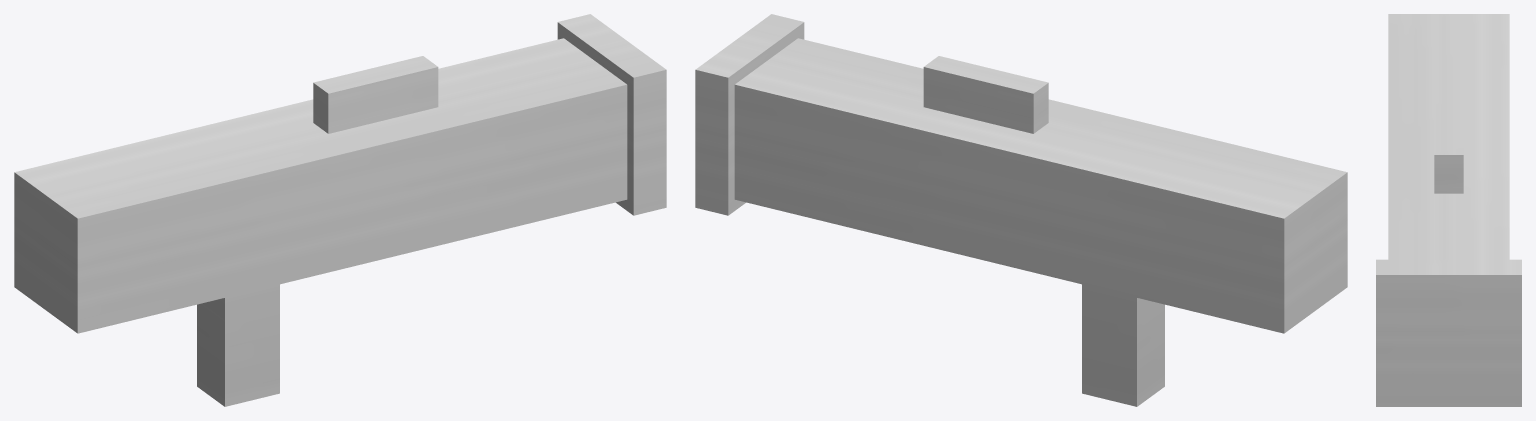
File: launcher.obj
3 views of the same model, side by side, from view 1: azimuth 30°, elevation 25°; view 2: azimuth 150°, elevation 25°; view 3: azimuth 270°, elevation 25° (orthographic). The views are drawn at different scales.
Parts seen in each view (by area): view 1: launcher; view 2: launcher; view 3: launcher.
Boxes of the visible parts, x1=… form: launcher: x1=14, y1=14, x2=666, y2=406; launcher: x1=695, y1=14, x2=1347, y2=406; launcher: x1=1376, y1=14, x2=1521, y2=406.
Bounding box in the file's own units: 0.53 × 0.245 × 0.12.
